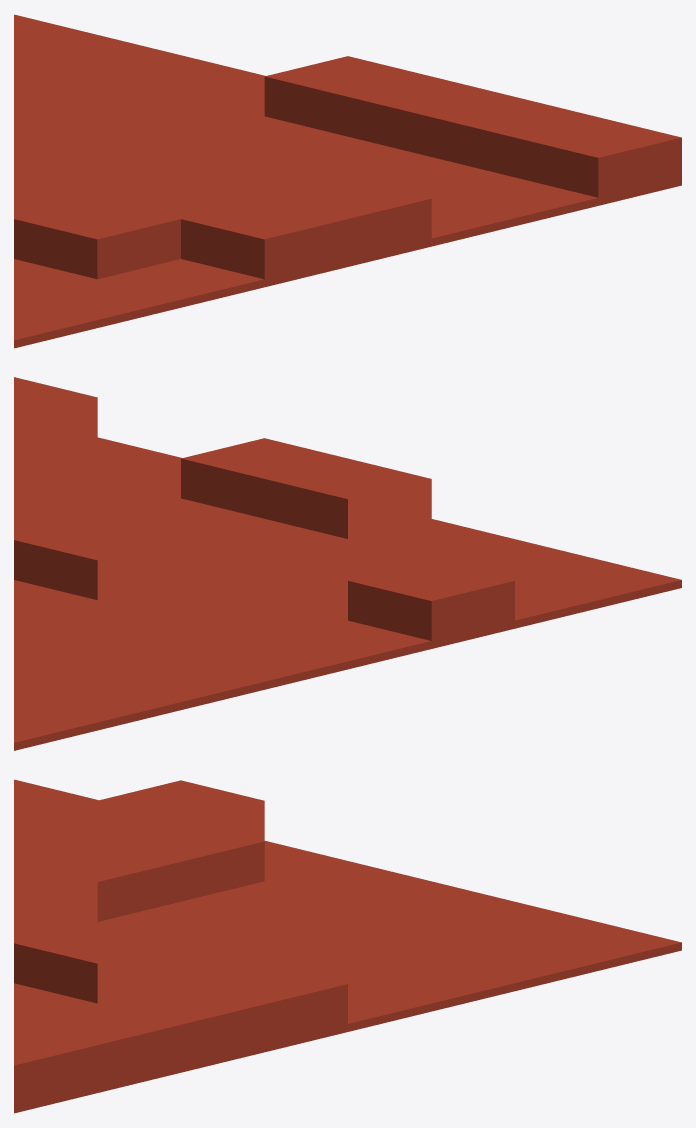
File: ClayminePort.fbx
The picture shows the model from 3 angles, top to bottom: view 1: azimuth 30°, elevation 25°; view 2: azimuth 150°, elevation 25°; view 3: azimuth 270°, elevation 25°; orthographic projection.
Parts seen in each view (by area): view 1: Cylinder; view 2: Cylinder; view 3: Cylinder.
Boxes of the visible parts, box(x1,y1,x2,y2) form: Cylinder: box(14, 14, 681, 348); Cylinder: box(14, 377, 681, 750); Cylinder: box(14, 779, 681, 1113).
Size of the model in its own units: 0.866 by 0.0594 by 0.75.
